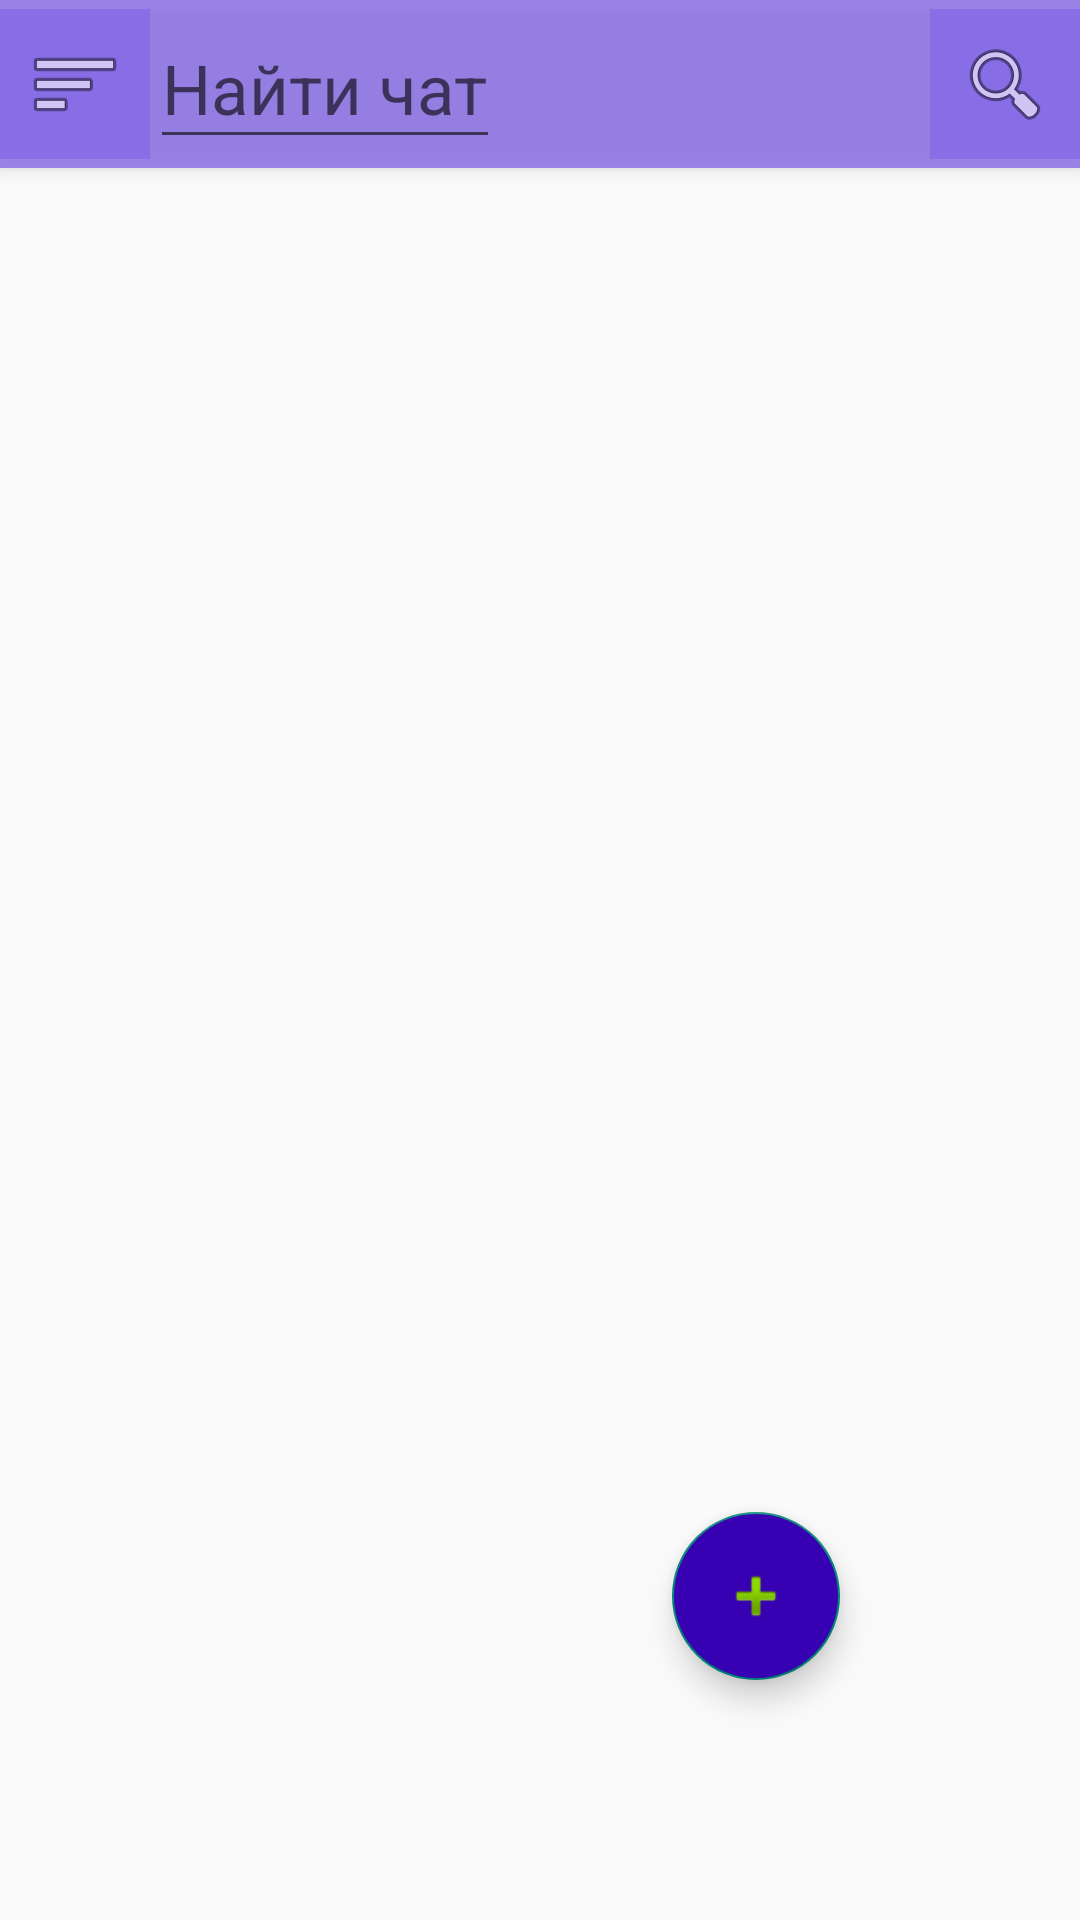

Screen size 1080px x 1920px. Icon name, then its center in pixels as [x,y]:
add: [756,1596]
search: [1005,84]
sort by size: [75,84]
